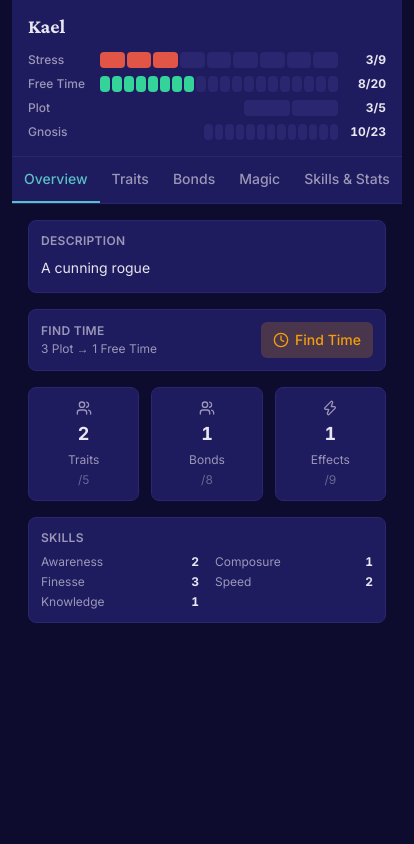
Test: character sheet — Find Time › Find Time failure: shows error toast
Expected: the element named "Plot: 3 of 5" is shown, [28,100,386,116]
Click the button with aria-label "find time (costs 3 plot" at (317, 340), box [261,322,373,358]
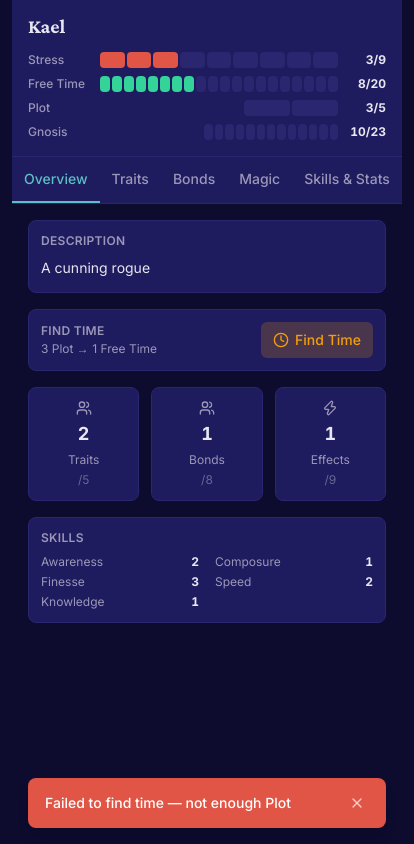
Expected: the text "Failed to find time — not enough Plot" is shown, [45,793,291,813]
